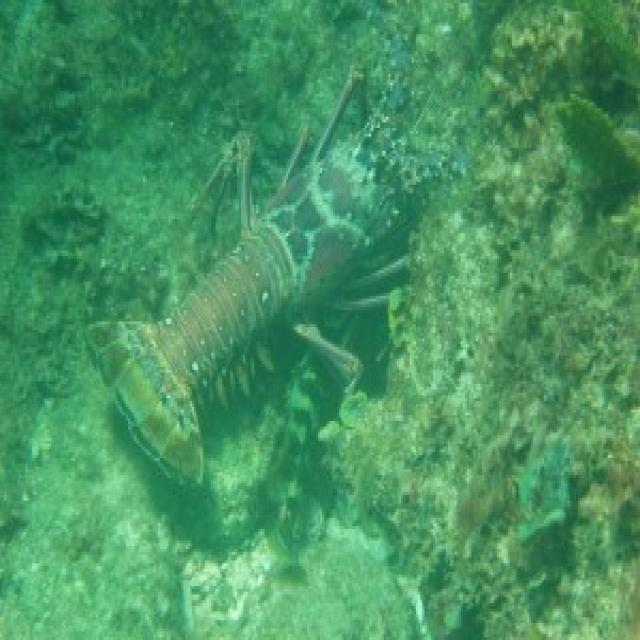lobsters: (89, 78, 450, 511)
